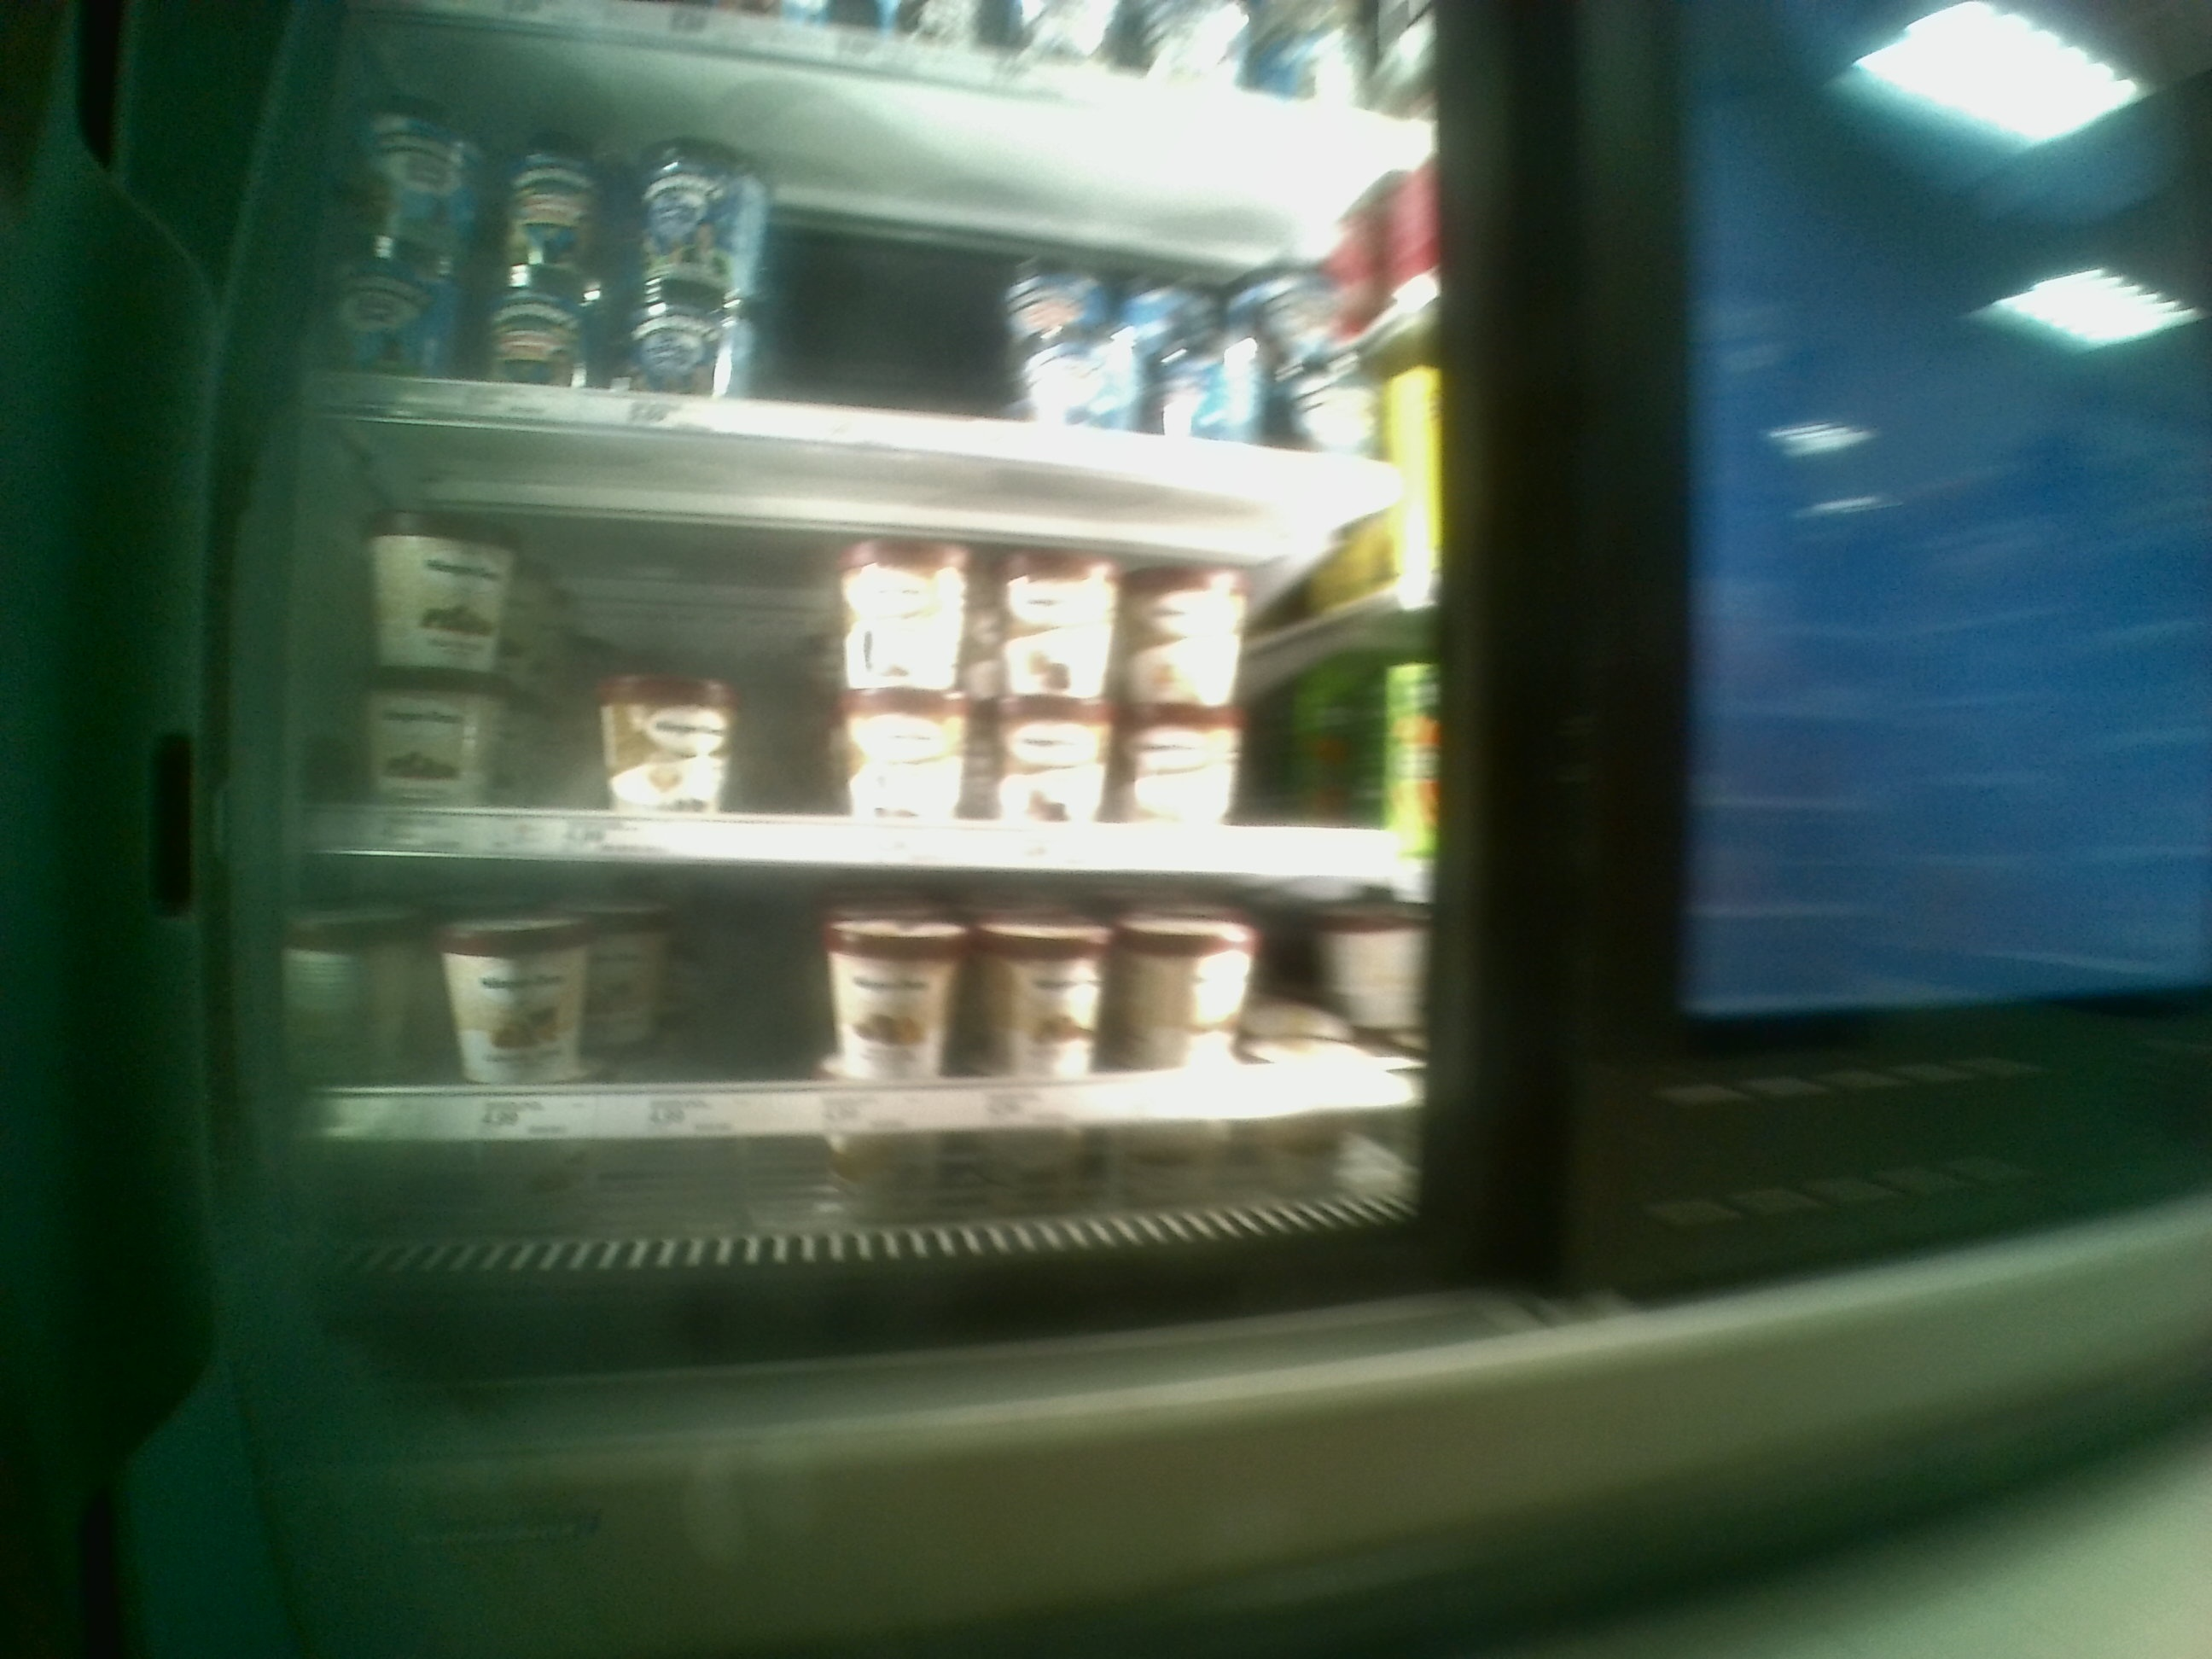shelf: (284, 425, 1430, 859), (273, 859, 1433, 1201)
